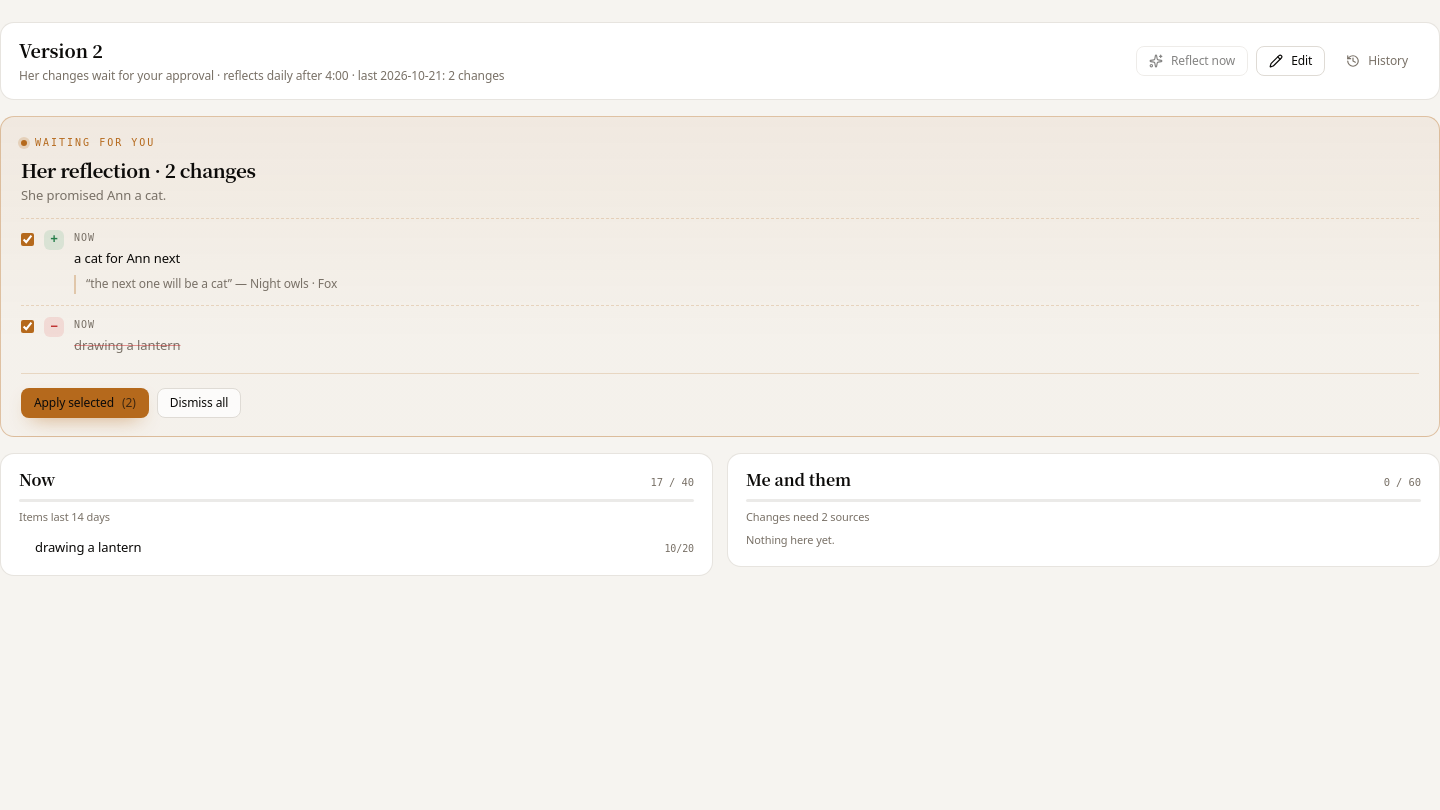
Test: QueenSoulSection › applies only the changes left ticked
The width and height of the screenshot is (1440, 810).
Expected: the text "“the next one will be a cat” — Night owls · Fox" is shown, [74, 275, 1419, 294]
Expected: the button "Reflect now" is disabled, [1136, 46, 1248, 76]
Click the checkbox named "Apply change 2" at (28, 326), box [21, 320, 34, 332]
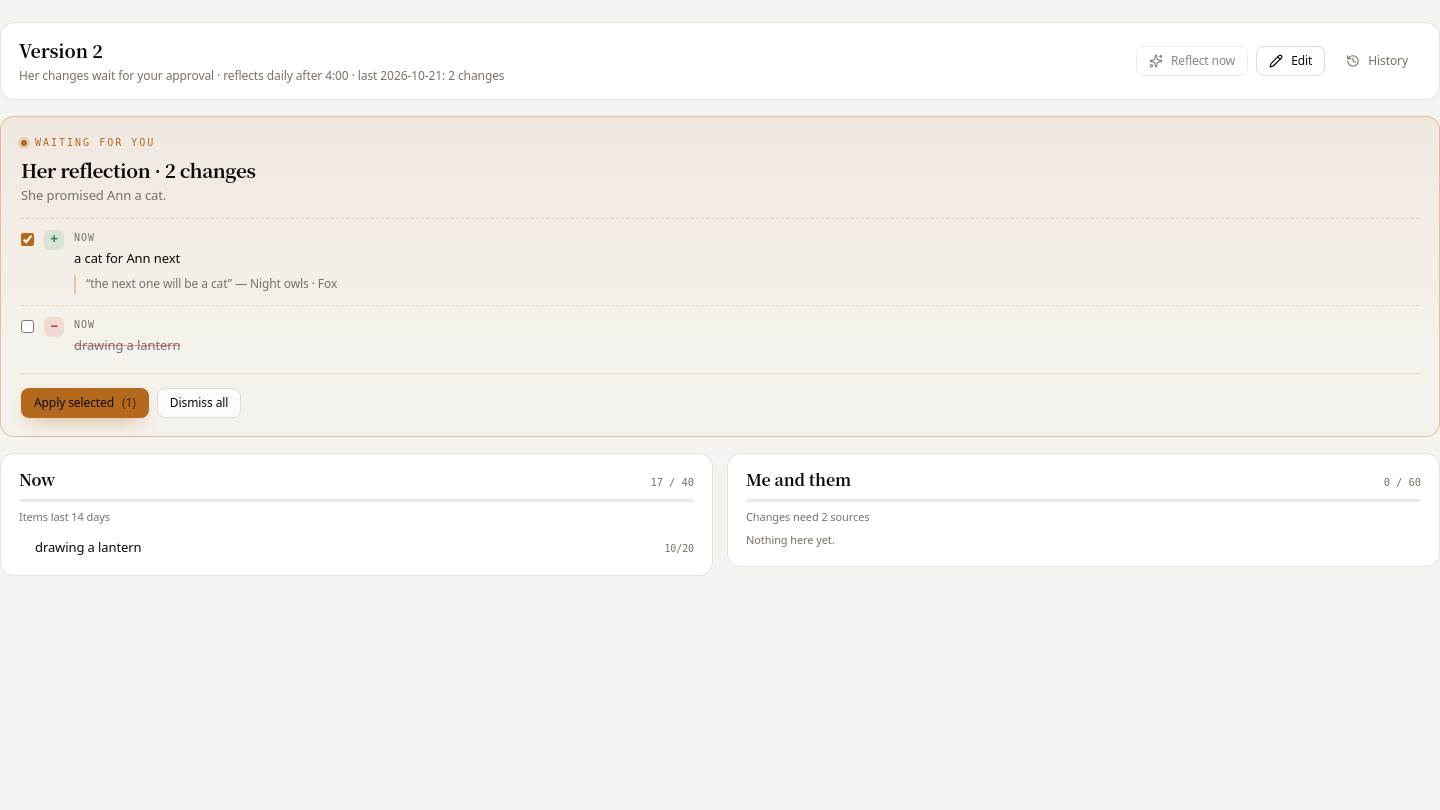
Click the button "Apply selected (1)" at (85, 403), box [21, 388, 149, 418]
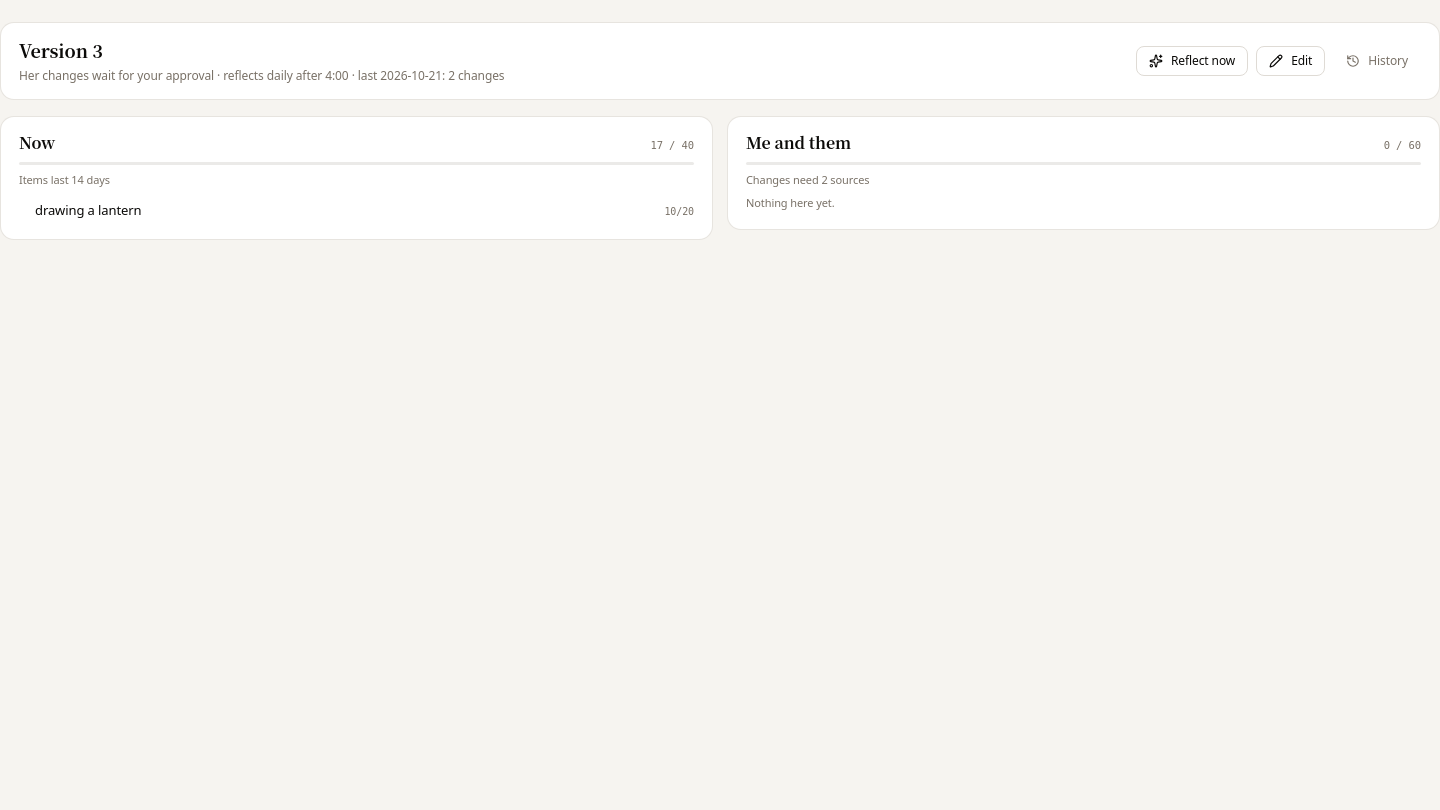
Expected: the text "Version 3" is shown, [19, 37, 103, 63]
